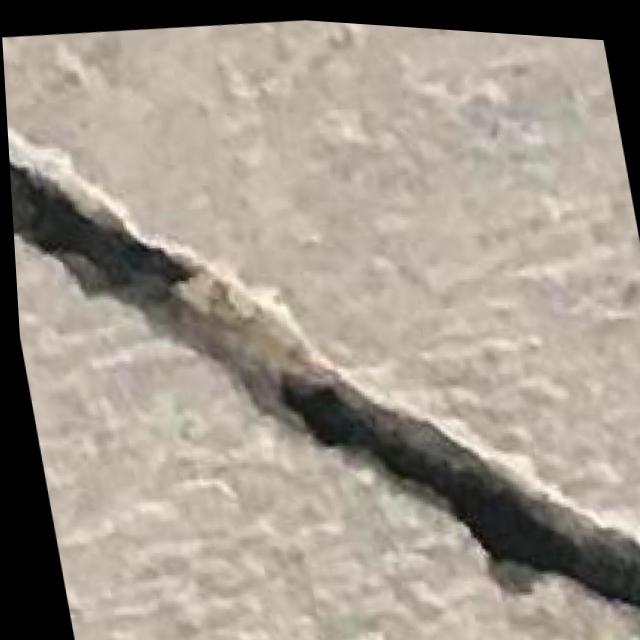Crack: (2, 39, 640, 640)
